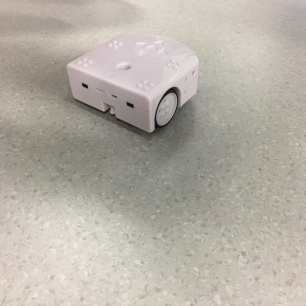thymio: (63, 29, 205, 138)
